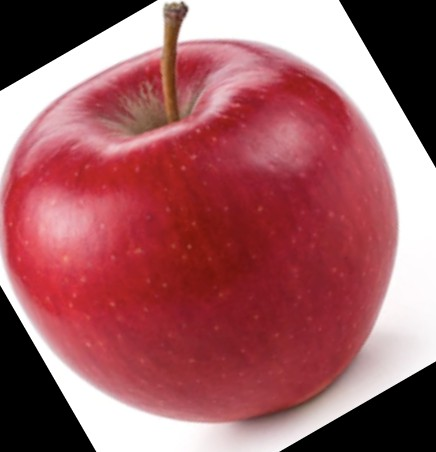fresh_apple: (3, 39, 396, 422)
